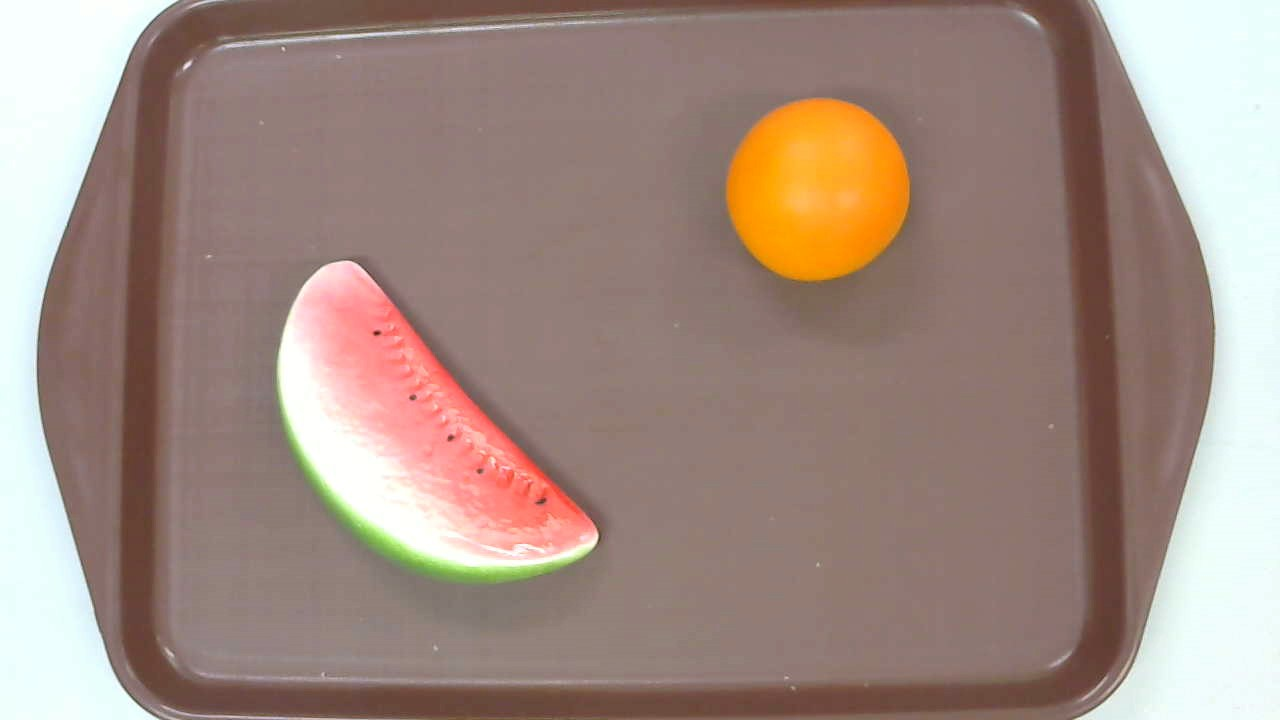bun: (724, 97, 909, 282)
water melon: (274, 259, 600, 584)
